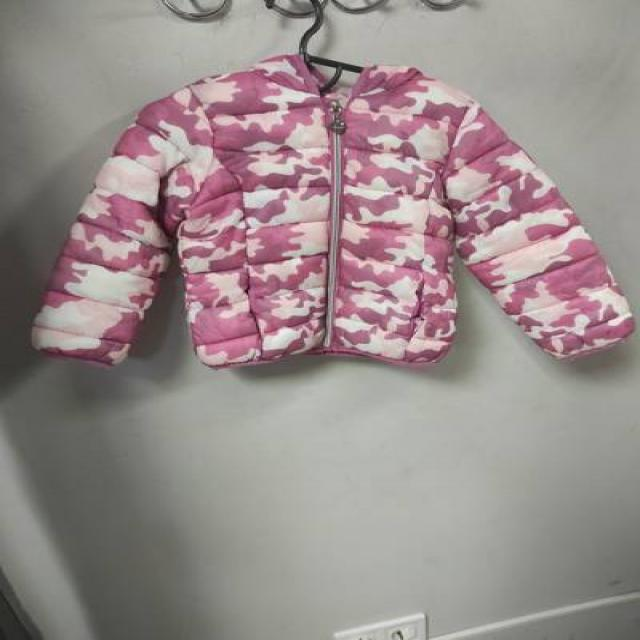Clothes -Biodegradable-: (31, 47, 630, 376)
